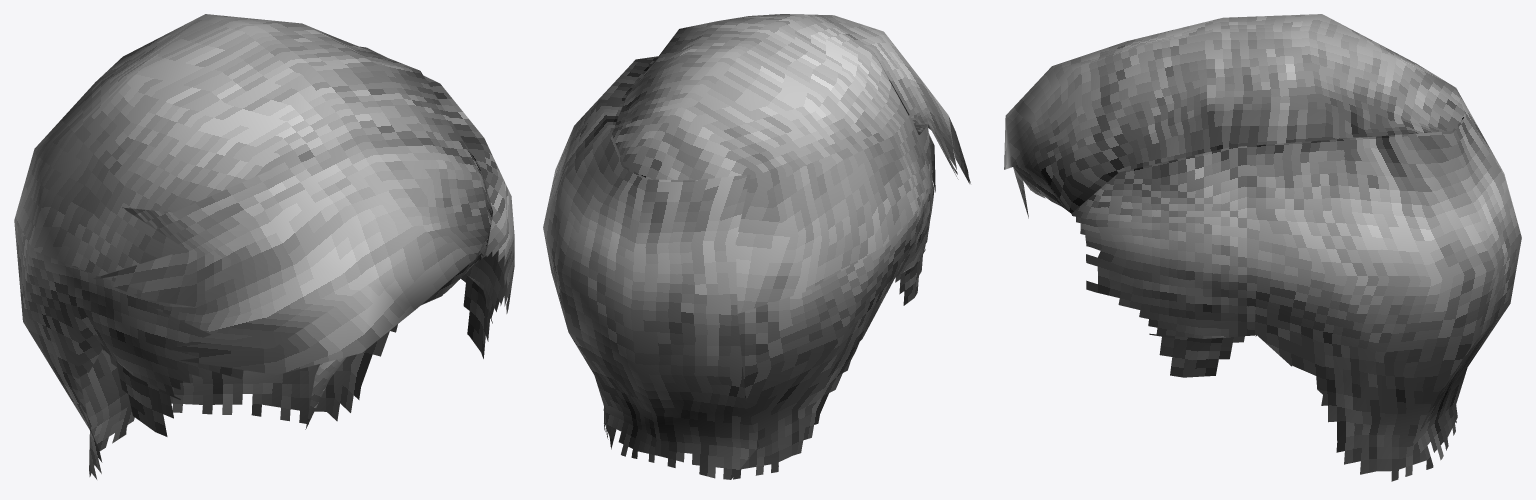
Rendered from m_head010.glb.
3 renders of one model, left to right at view 1: azimuth 30°, elevation 25°; view 2: azimuth 150°, elevation 25°; view 3: azimuth 270°, elevation 25°, orthographic. The views are drawn at different scales.
Bounding box in the file's own units: 18.36 × 19.27 × 22.1.
1 material, 1 textured.
